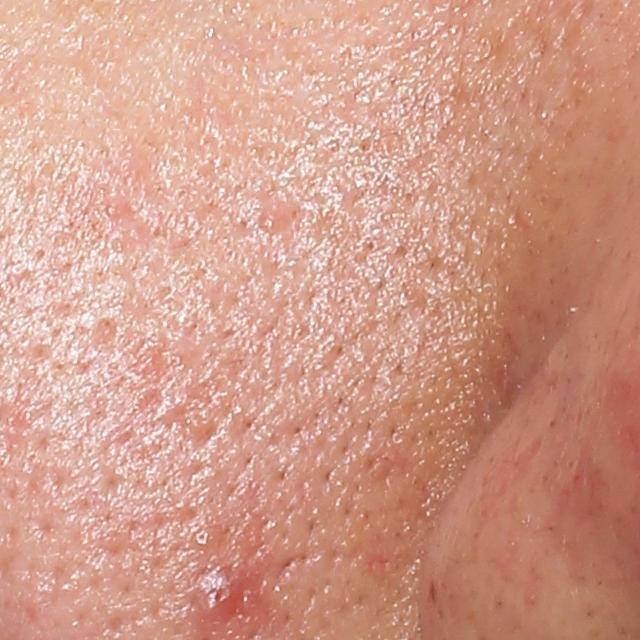comedo: (188, 525, 213, 552)
papule: (195, 571, 247, 620)
